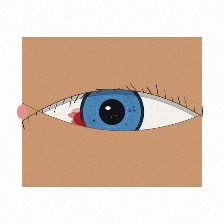hemorrhage_spot: (65, 96, 123, 142)
